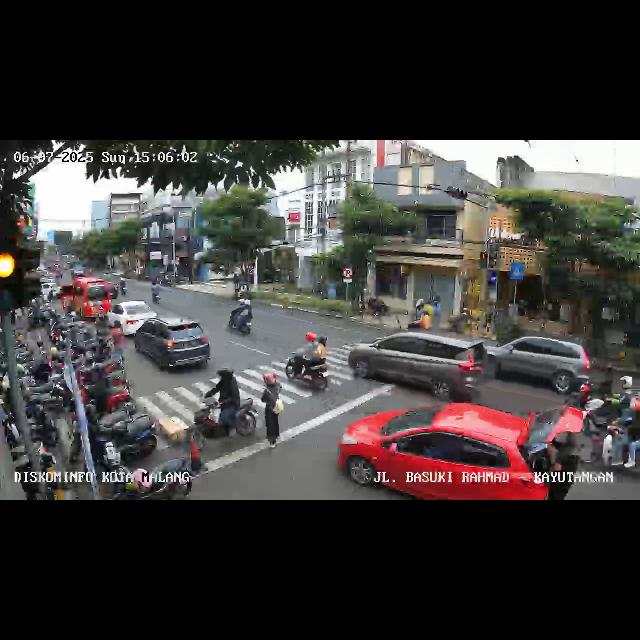car: (338, 400, 552, 500), (348, 328, 484, 400), (492, 333, 590, 397), (134, 318, 210, 374), (60, 278, 111, 322), (106, 300, 156, 336)
motorcycle: (578, 397, 640, 473), (198, 366, 258, 442), (284, 332, 334, 394), (582, 376, 634, 432), (566, 366, 616, 408), (227, 295, 256, 337), (150, 280, 162, 302)
person: (262, 375, 282, 449), (109, 319, 125, 365)
